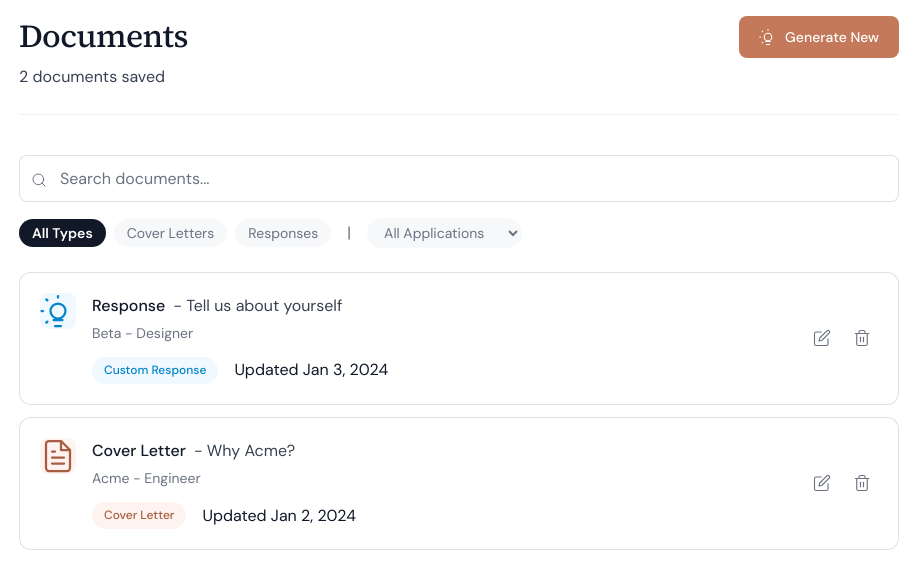
Test: Documents › shows empty state for unmatched filters
In the field with placeholder "Search documents...": x=459, y=178 [19,155,899,202], type "Nope"
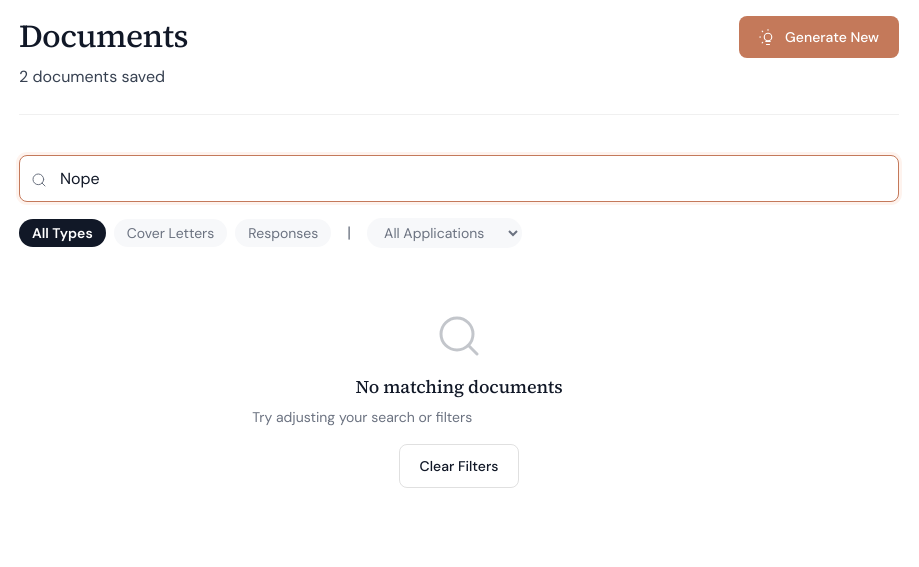
expect the heading "No matching documents" is shown: met, box [356,374,562,399]
